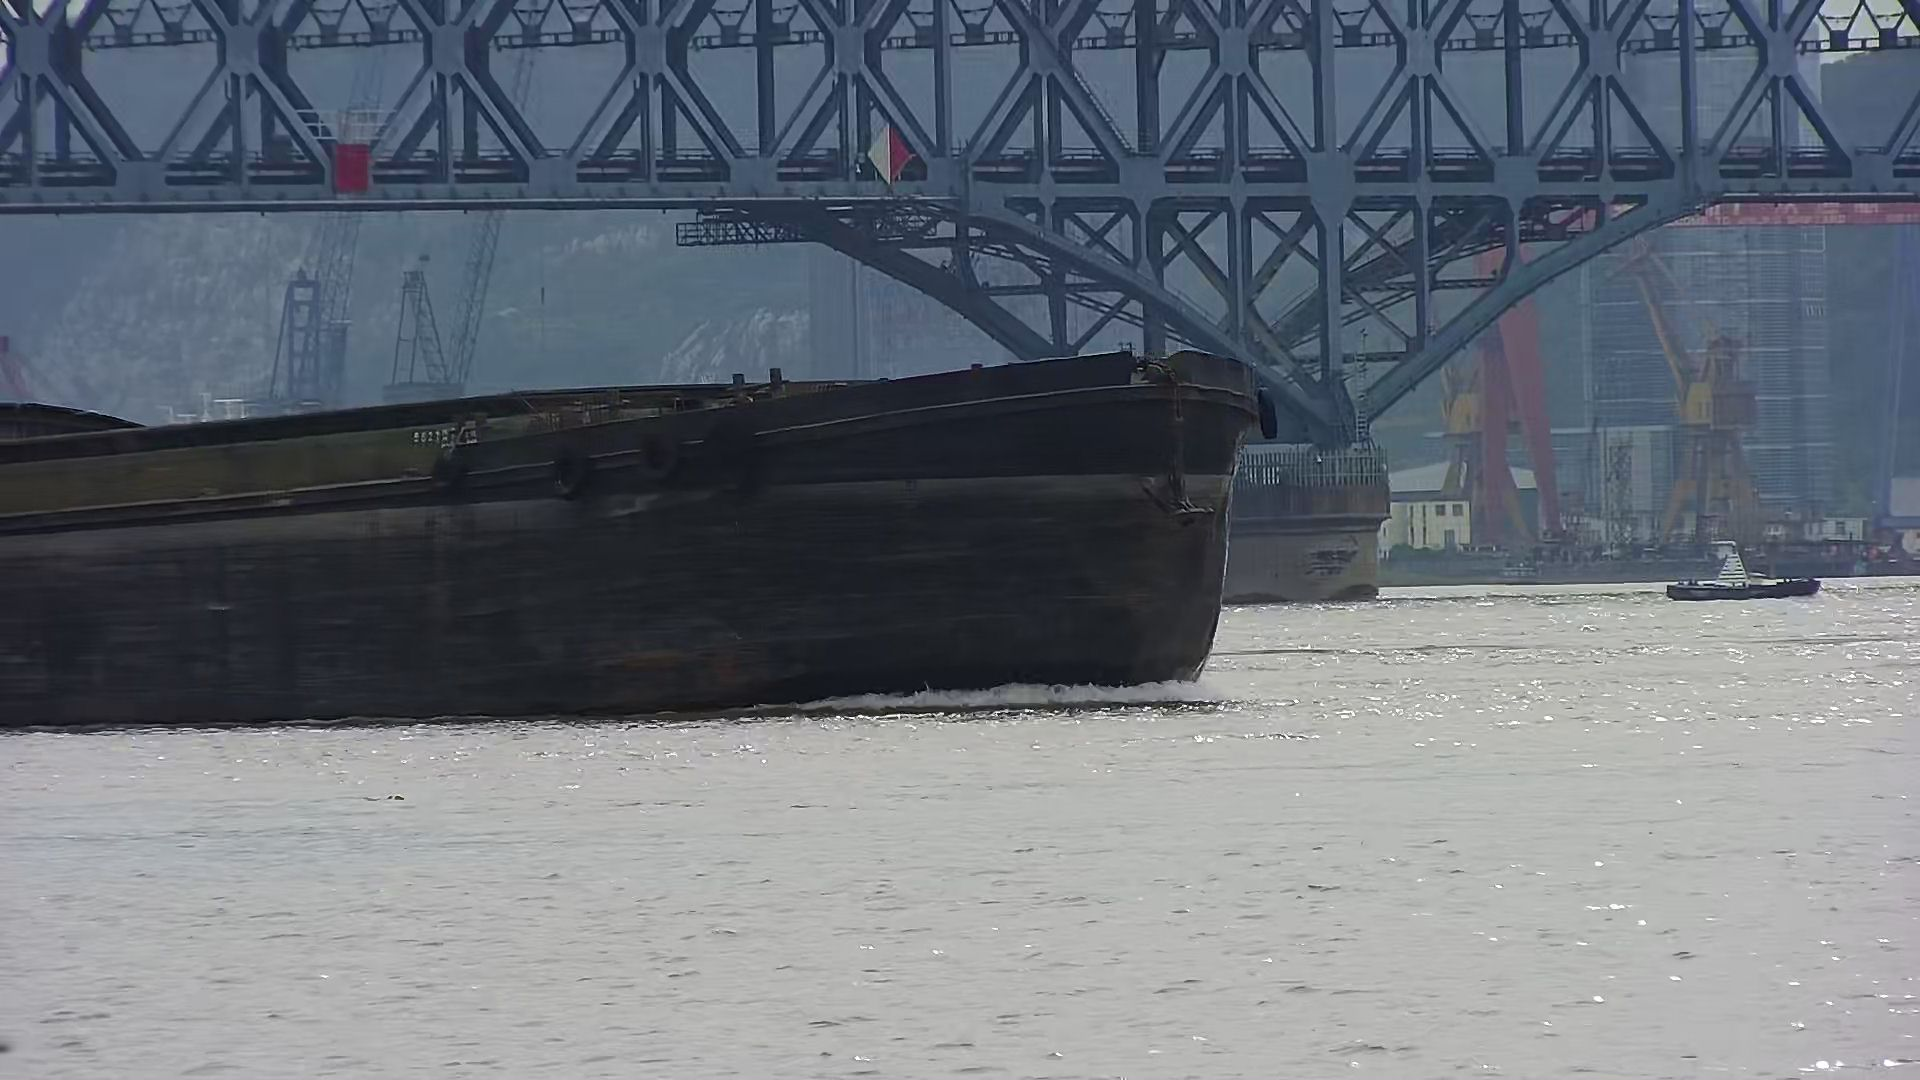boat: (1647, 524, 1844, 615)
bridge: (1, 1, 1919, 611)
ship: (1, 340, 1266, 736)
